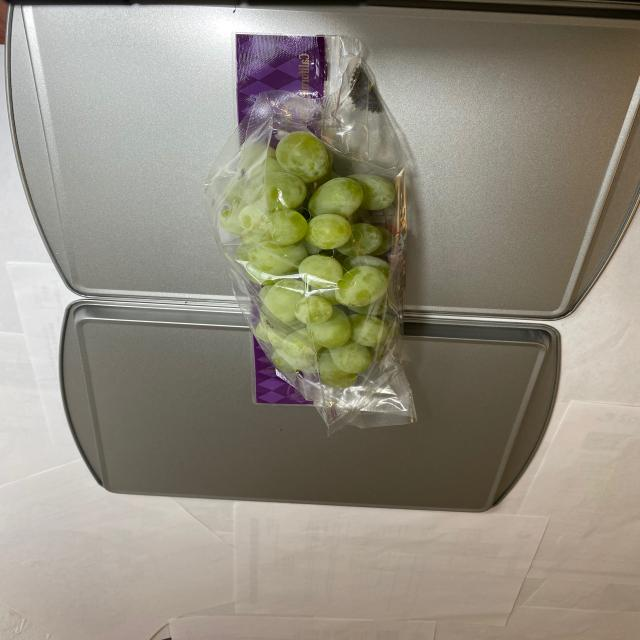grapes: (222, 127, 399, 400)
